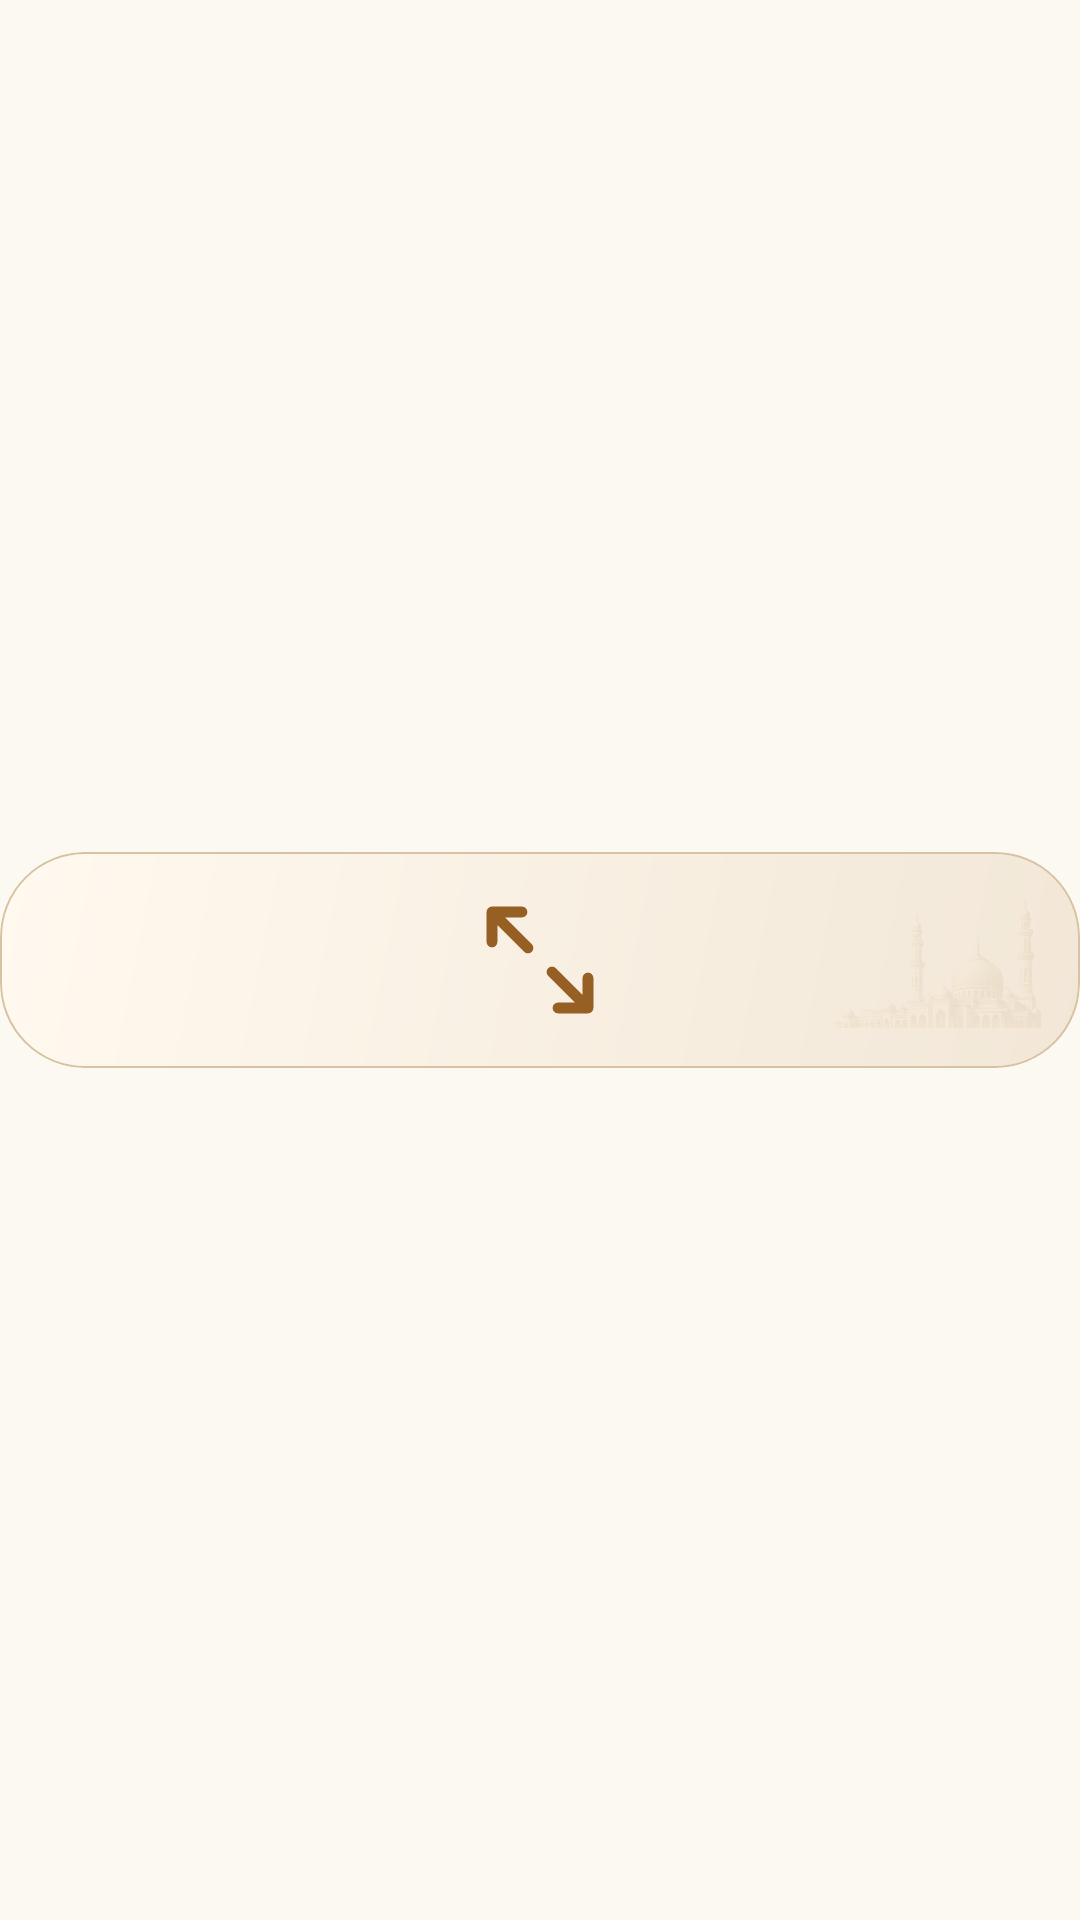

Where to tap for icons on this 1080x1920 app screen, as [x,y]:
widget resize: [540,960]
